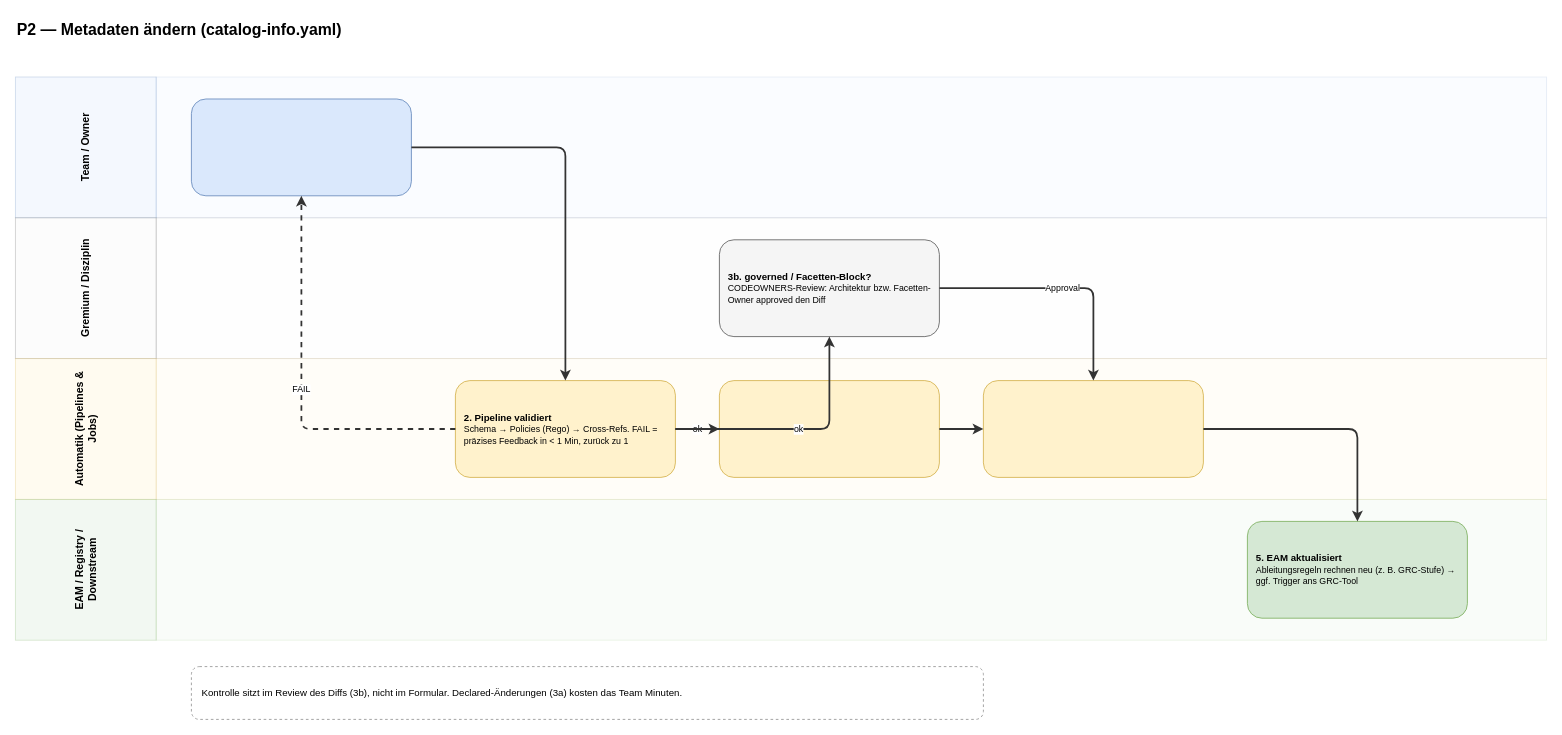
Some shapes in this 1562 by 735 pixel diagram are drawn without their labels. The centre of each missing label's shape, as x and y in pixels:
"1. Team ändert Datei Merge Request auf catalog-info.yaml" belongs at point (301, 147).
"3a. Nur declared-Felder? Auto-Merge — kein menschliches Review" belongs at point (829, 428).
"4. Sync-Job schreibt einziger Schreiber auf die EAM-API" belongs at point (1093, 428).
